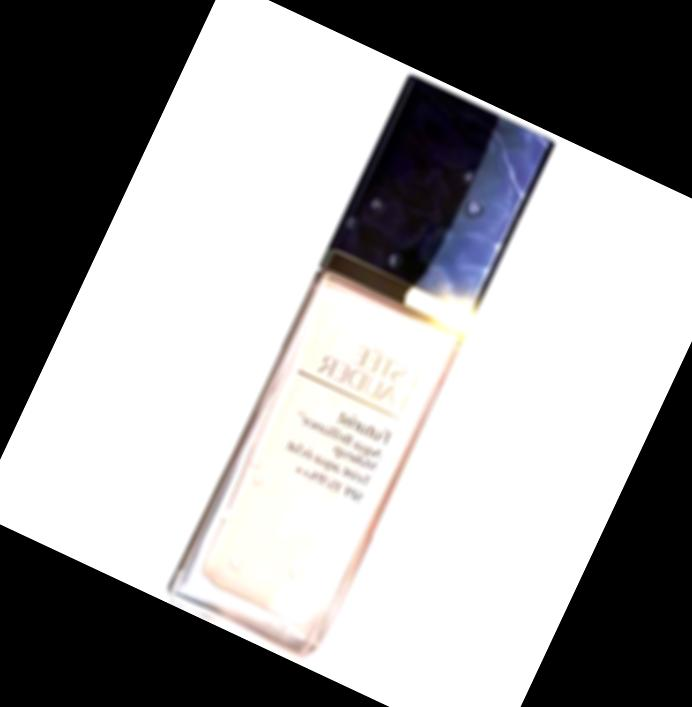cosmetic: (160, 70, 558, 667)
